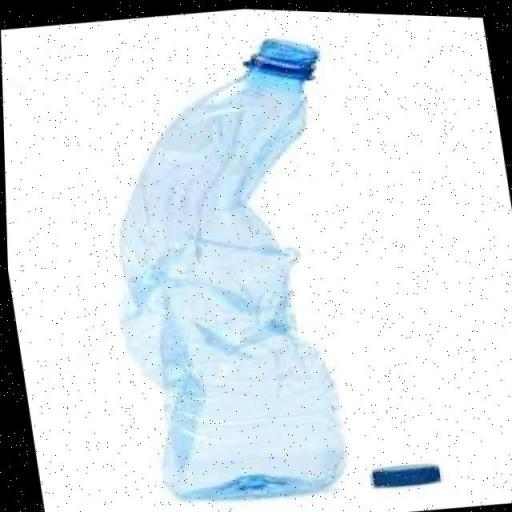plastic: (70, 17, 384, 512)
